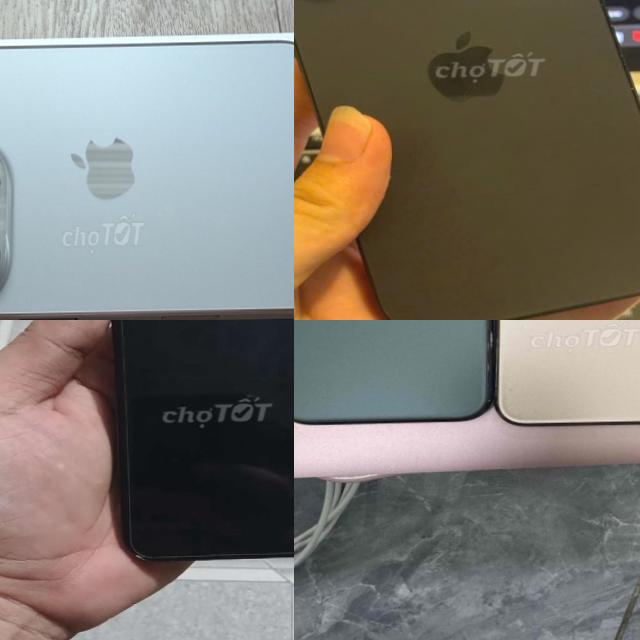gen_11: (294, 320, 496, 430), (490, 320, 640, 434)
gen_12_13: (106, 320, 294, 570)
gen_14: (294, 0, 640, 320)
gen_16: (0, 32, 294, 320)
